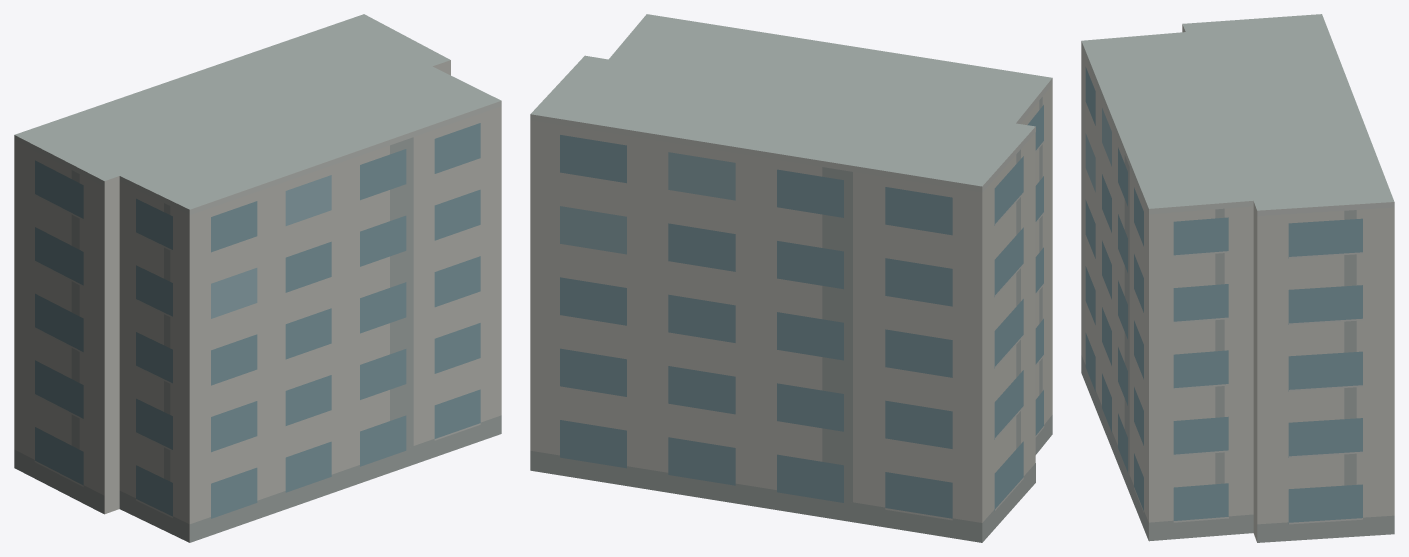
Rendered from survey-upis-33026132.glb.
3 renders of one model, left to right at view 1: azimuth 30°, elevation 25°; view 2: azimuth 150°, elevation 25°; view 3: azimuth 270°, elevation 25°, orthographic. The views are drawn at different scales.
Parts seen in each view (by area): view 1: survey-upis-33026132.tmp; view 2: survey-upis-33026132.tmp; view 3: survey-upis-33026132.tmp.
Boxes of the visible parts, x1,y1,x2,y2 form: survey-upis-33026132.tmp: (14, 14, 501, 542); survey-upis-33026132.tmp: (530, 14, 1052, 542); survey-upis-33026132.tmp: (1081, 14, 1394, 542).
Bounding box in the file's own units: 18.16 × 14.3 × 12.22.
